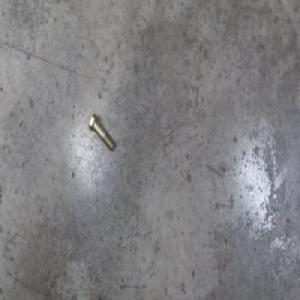Bolt: (87, 113, 114, 153)
